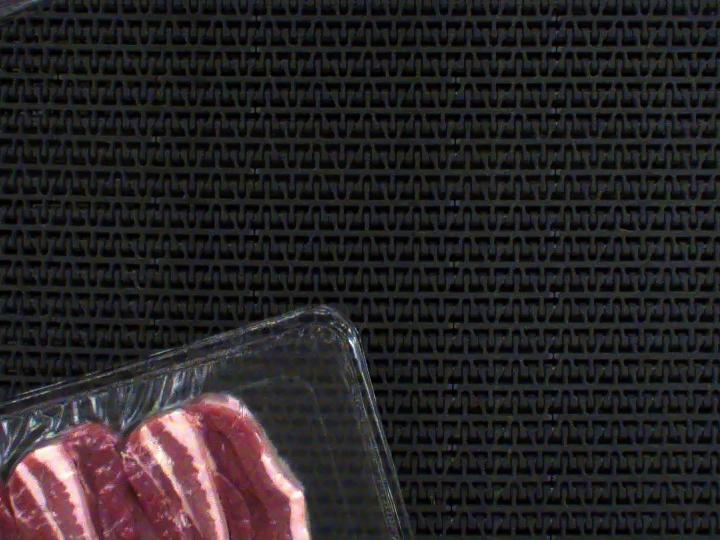unsealed: (0, 347, 357, 540)
